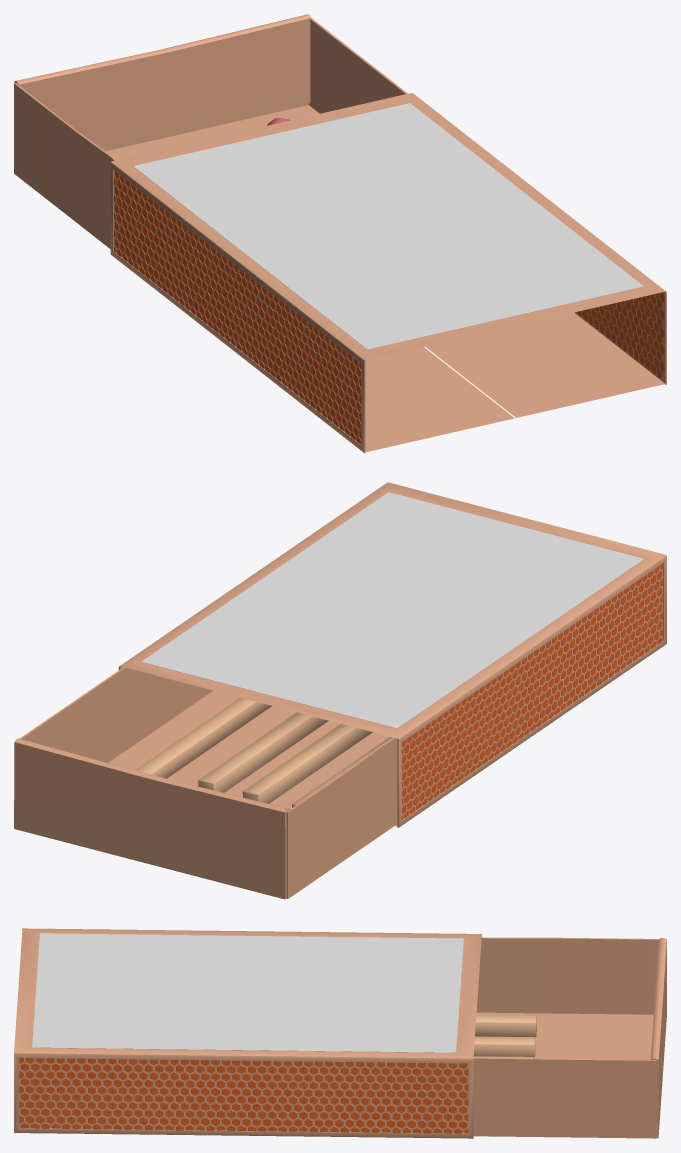
Rendered from matchbox_8.fbx.
3 views of the same model, one above another, from view 1: azimuth 30°, elevation 25°; view 2: azimuth 150°, elevation 25°; view 3: azimuth 270°, elevation 25° (orthographic). The views are drawn at different scales.
Parts seen in each view (by area): view 1: Cube, Cube.001; view 2: Cube, Cube.001, Cube.006, Cube.007, Cube.003; view 3: Cube, Cube.001, Cube.002, Cube.003.
Boxes of the visible parts, x1,y1,x2,y2 form: Cube: (110, 93, 666, 453); Cube.001: (14, 14, 407, 248); Cube: (118, 482, 666, 827); Cube.001: (14, 667, 397, 899); Cube.006: (135, 697, 271, 778); Cube.007: (198, 712, 328, 792); Cube.003: (242, 724, 372, 803); Cube: (14, 928, 481, 1138); Cube.001: (473, 937, 666, 1138); Cube.002: (475, 1014, 536, 1037); Cube.003: (473, 1036, 535, 1058).
Size of the model in its own units: 16.05 by 4.61 by 33.64.
